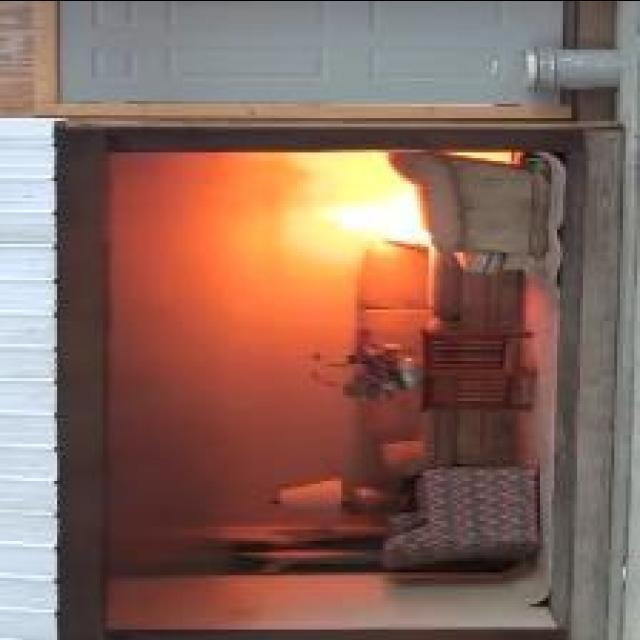Fire: (332, 187, 432, 244)
